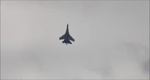maybay_muctieu: (58, 22, 76, 46)
